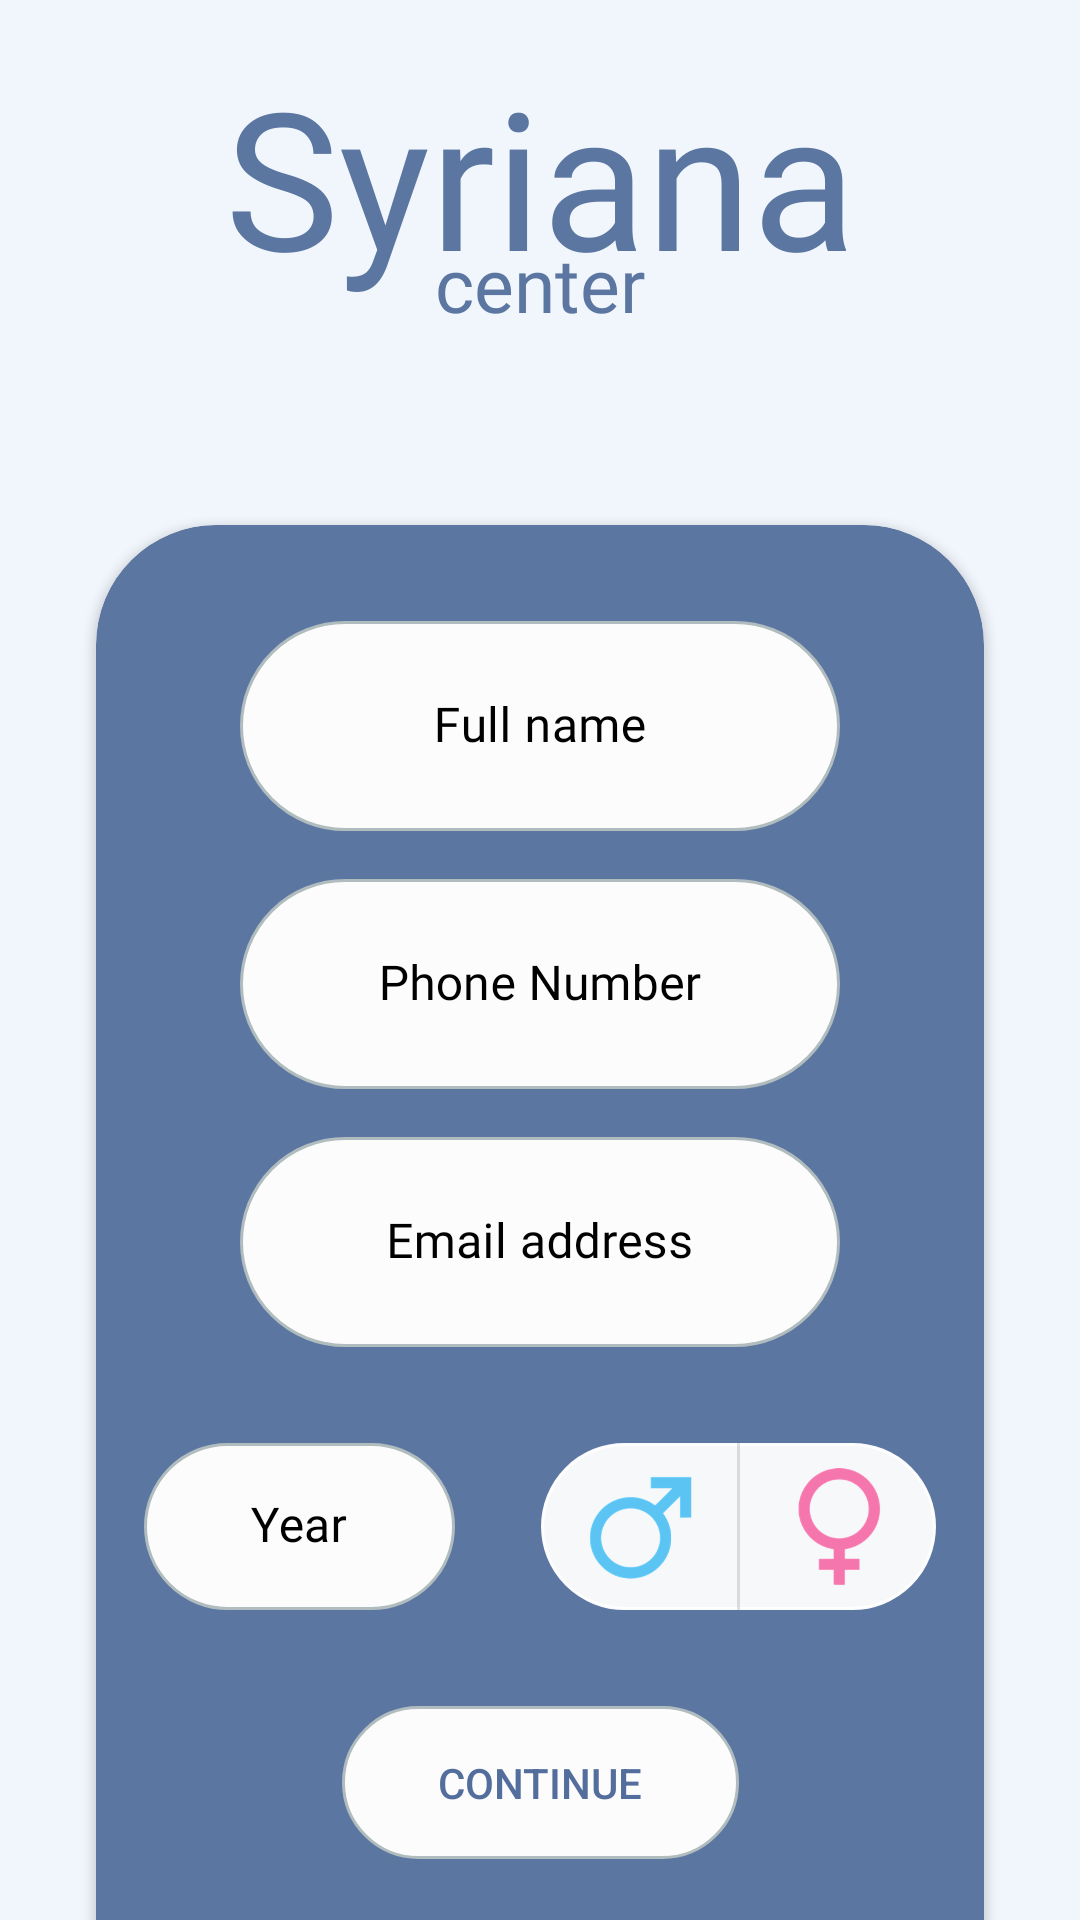

Screen size 1080w x 1920h. Icon name, then its box in pixels as Rect(x1, y1, x2, y2):
female: Rect(740, 1443, 936, 1610)
male: Rect(541, 1443, 737, 1610)
